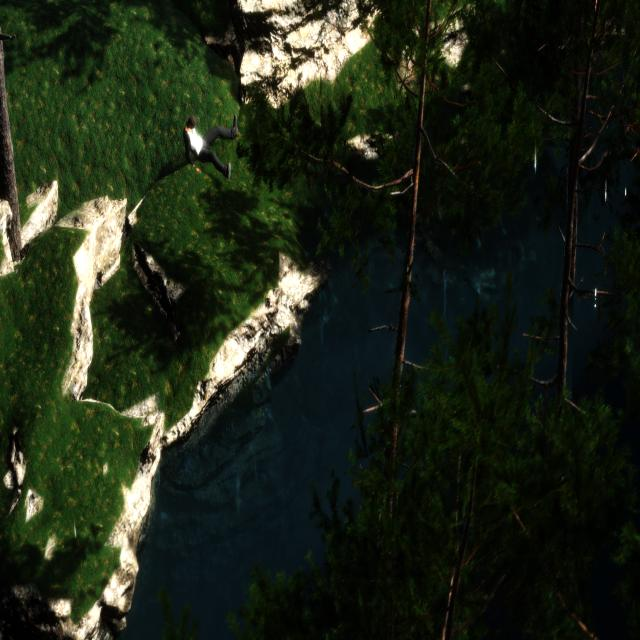Human: (182, 108, 242, 184)
